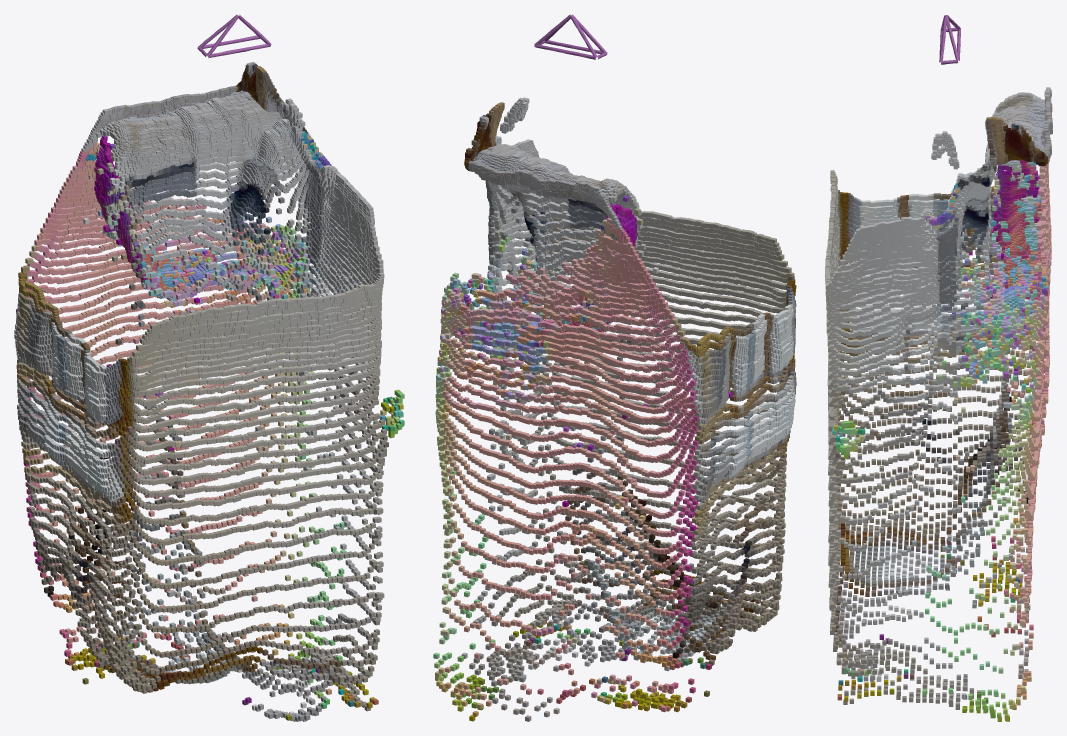
Rendered from pred_3-compressed.glb.
3 renders of one model, left to right at view 1: azimuth 30°, elevation 25°; view 2: azimuth 150°, elevation 25°; view 3: azimuth 270°, elevation 25°, orthographic. The views are drawn at different scales.
Bounding box in the file's own units: 3.79 × 8.63 × 2.64.
